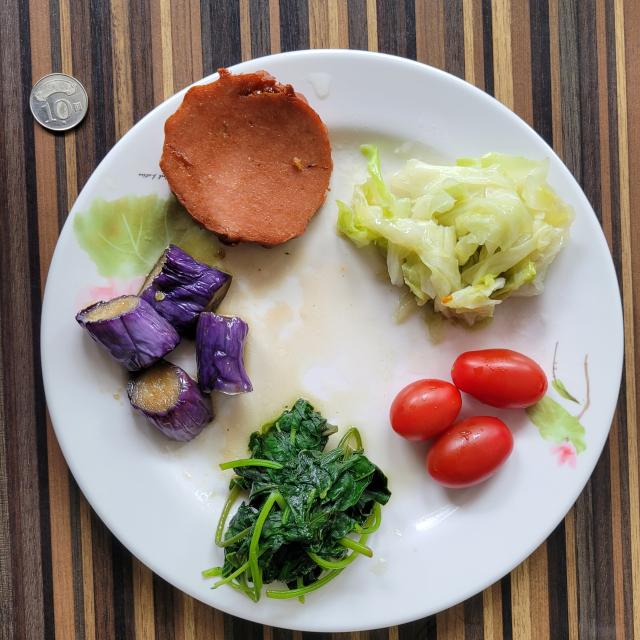Spam: (160, 70, 332, 248)
cabbage: (338, 146, 575, 325)
coin: (30, 74, 88, 131)
sweet potato leaves: (204, 399, 390, 601)
